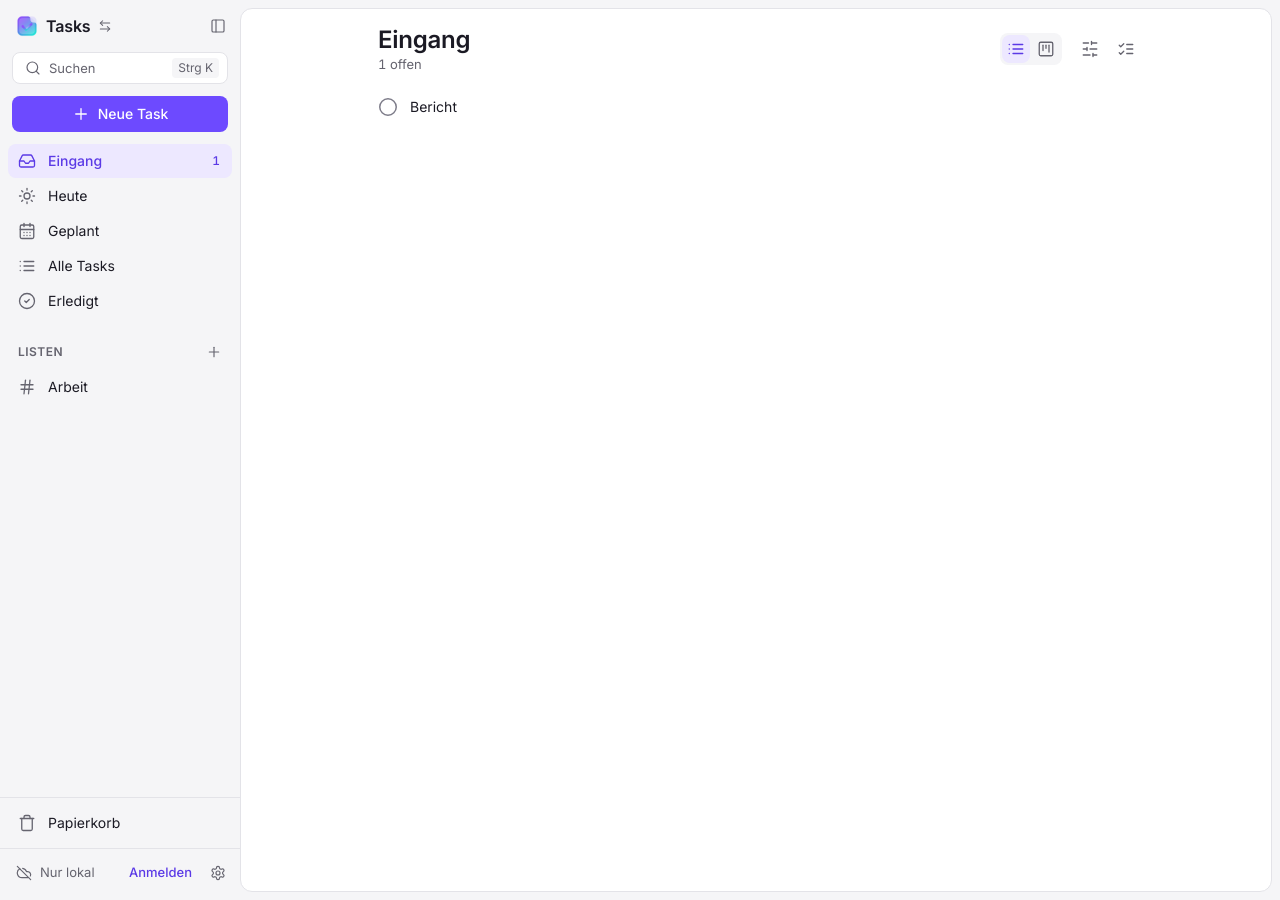
Test: TaskDetail › rejects an empty title and restores it
The width and height of the screenshot is (1280, 900).
Click the option "Bericht".
click(416, 107)  # box [374,93,457,121]
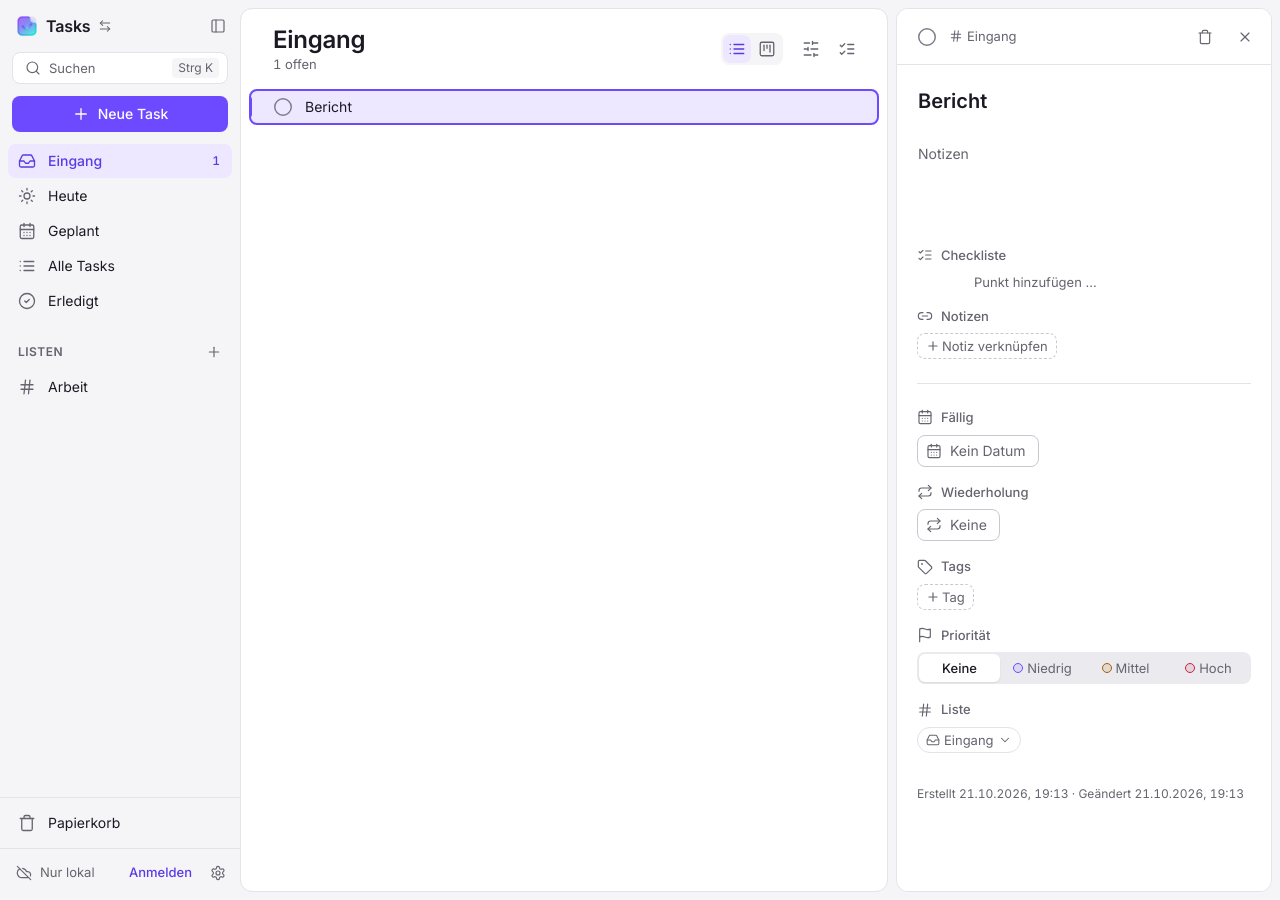
Clear the text box named "Titel" at (1084, 102), box [909,81,1259,122]
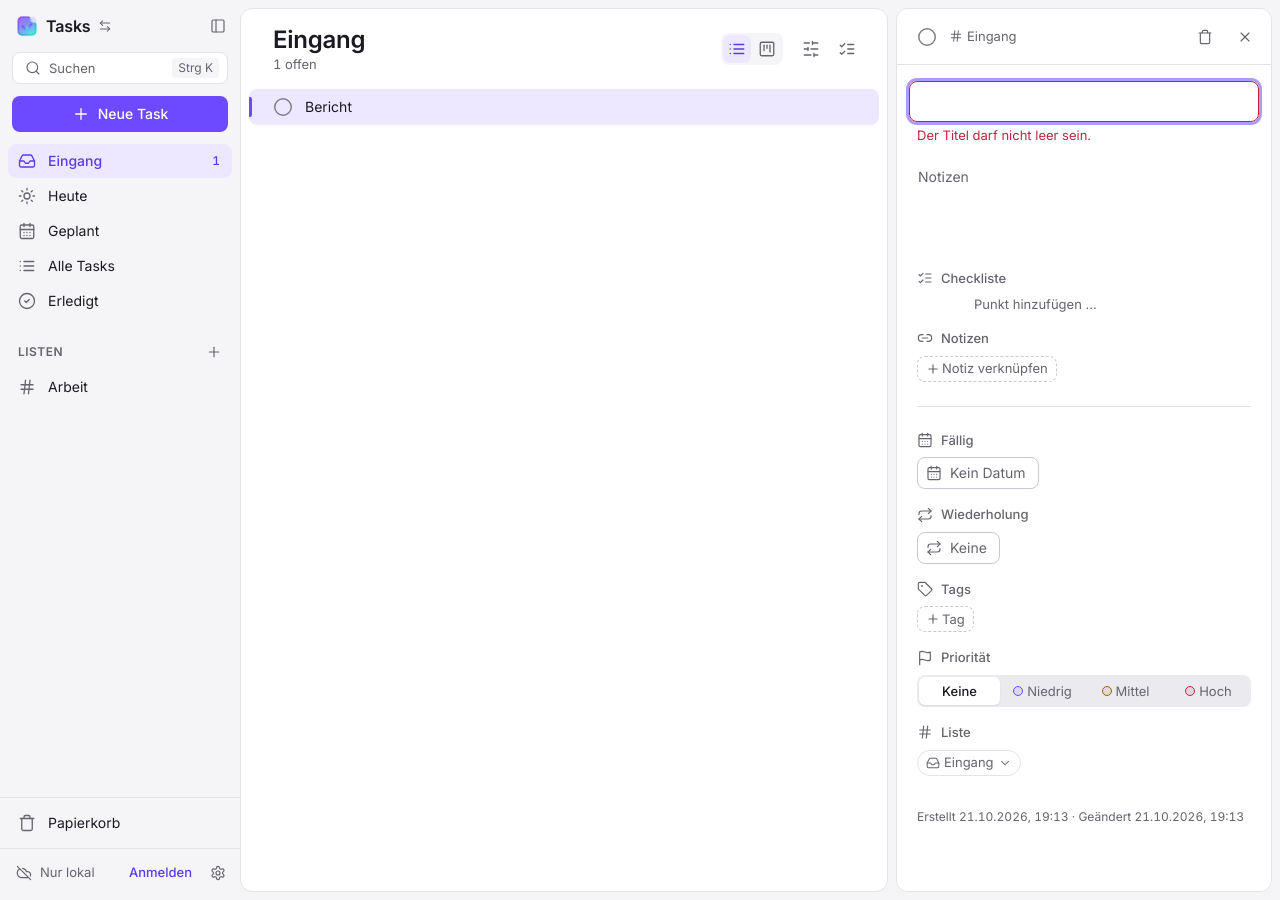
Check: the message "Der Titel darf nicht leer sein." is shown, box [917,127,1091,143]
Click the text box labelled "Notizen".
click(1084, 205)  # box [909,157,1259,253]
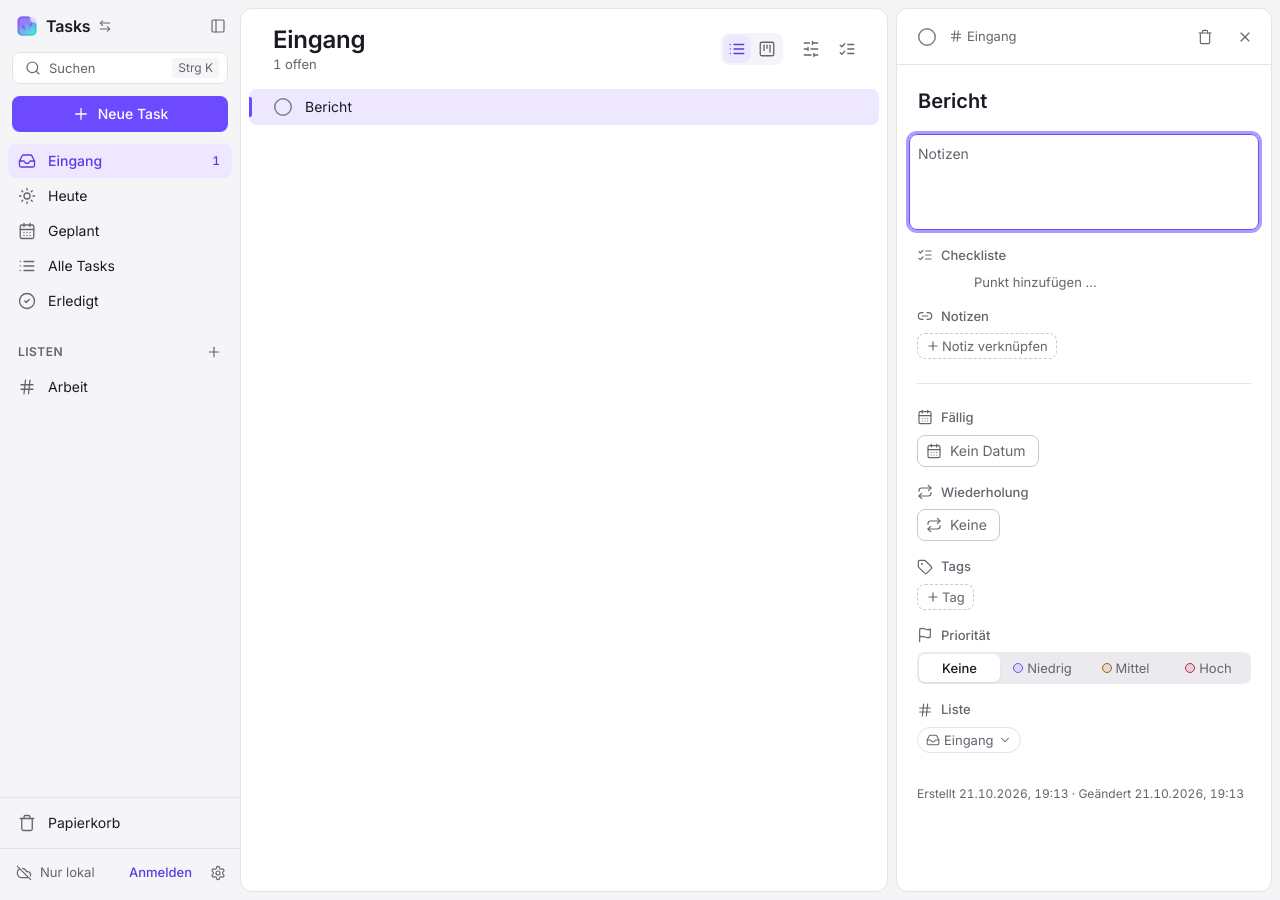
Check: the text "Bericht" is shown, box [305,98,352,115]
Check: the text box named "Titel" holds "Bericht", box [909,81,1259,122]
